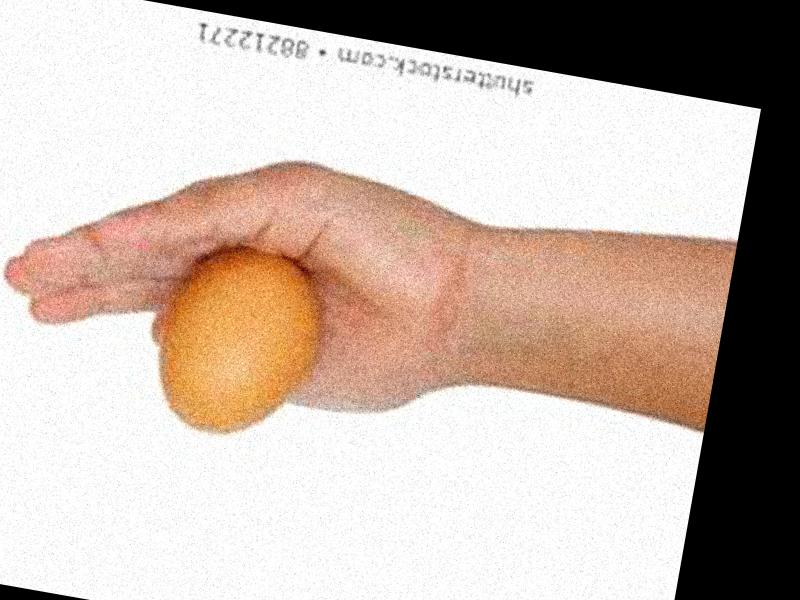Eggs: (147, 233, 332, 450)
